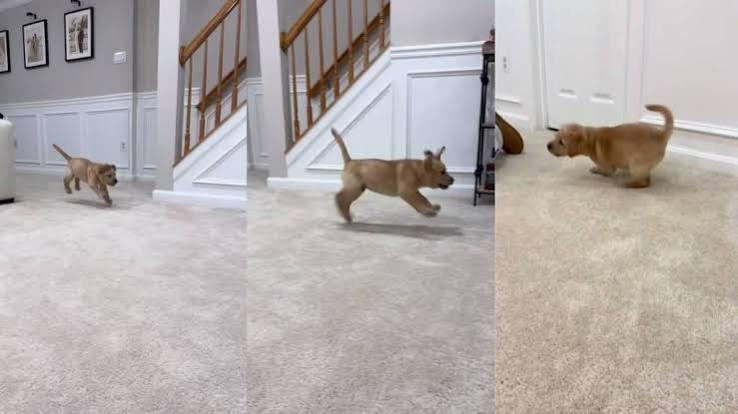puppy-dog: (331, 127, 455, 225), (546, 103, 674, 189), (52, 142, 120, 207)
